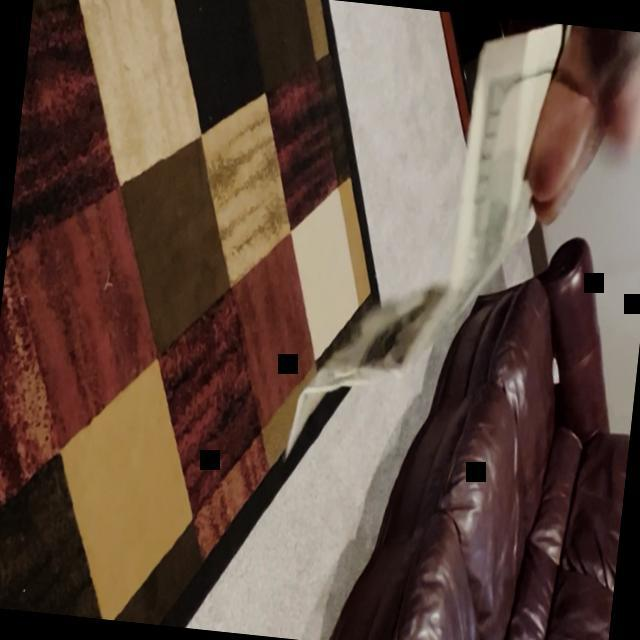hundred: (284, 23, 573, 461)
